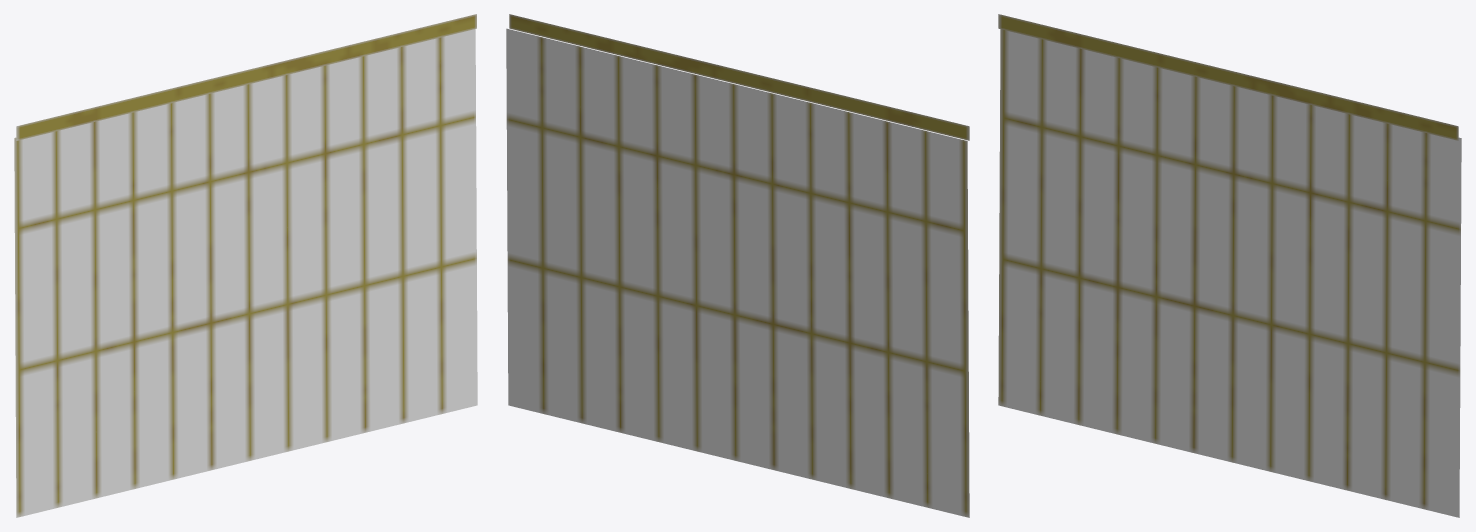
The model's file is weilan2.fbx.
3 views of the same model, side by side, from view 1: azimuth 30°, elevation 25°; view 2: azimuth 150°, elevation 25°; view 3: azimuth 330°, elevation 25° (orthographic).
Parts seen in each view (by area): view 1: 平面.077; view 2: 平面.077; view 3: 平面.077.
Boxes of the visible parts, x1,y1,x2,y2 form: 平面.077: [14, 14, 477, 517]; 平面.077: [506, 14, 969, 517]; 平面.077: [998, 14, 1461, 517].
Size of the model in its own units: 270 by 219 by 2.18.
